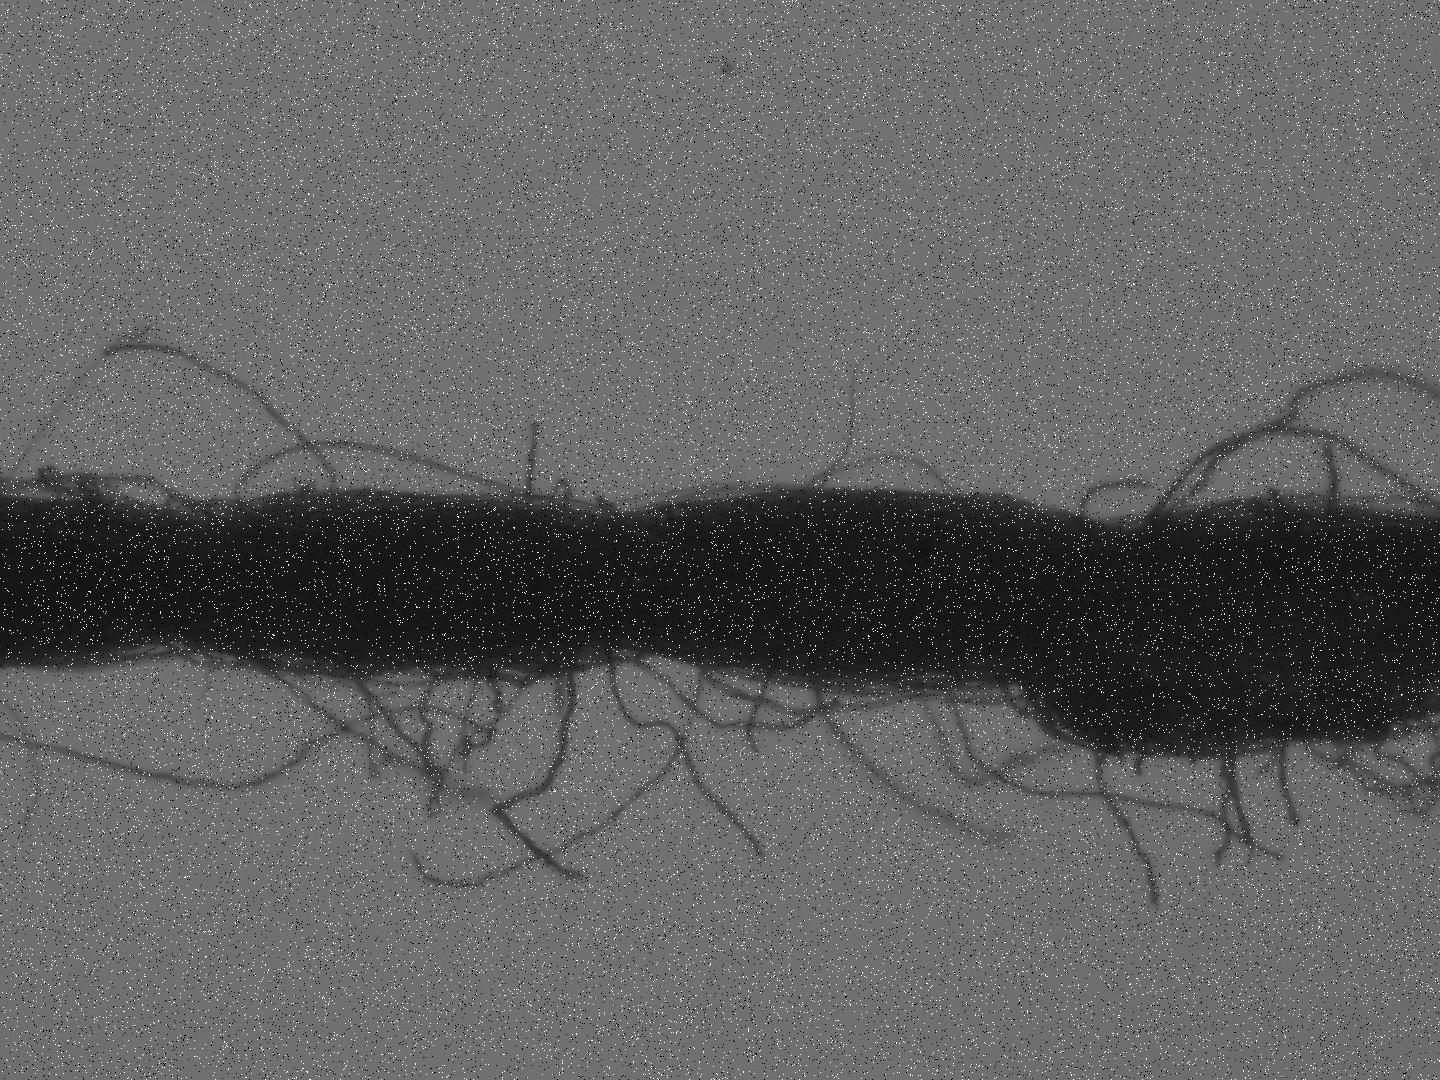loop_fiber: (1147, 421, 1435, 538), (230, 433, 586, 528), (1019, 685, 1430, 760), (700, 669, 1008, 720), (173, 646, 406, 681), (799, 453, 959, 498), (26, 459, 116, 522)
protruding_fiber: (810, 682, 1011, 846), (492, 646, 587, 892), (1073, 479, 1151, 533)
